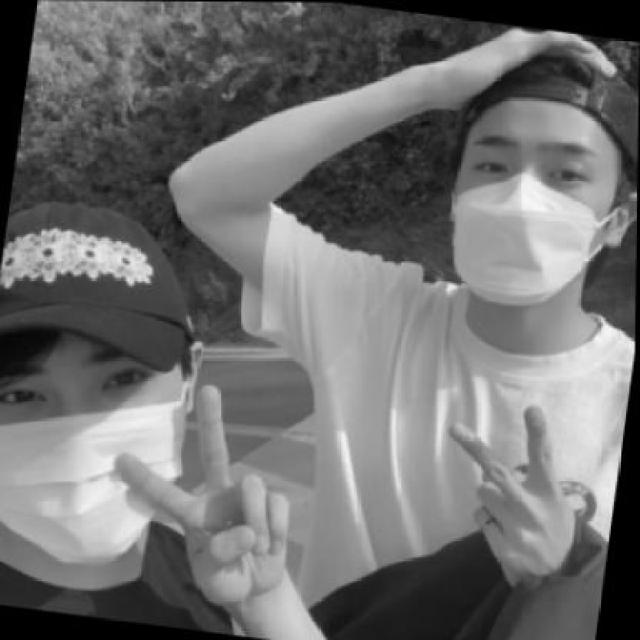hat: (0, 194, 211, 377), (447, 35, 639, 182)
